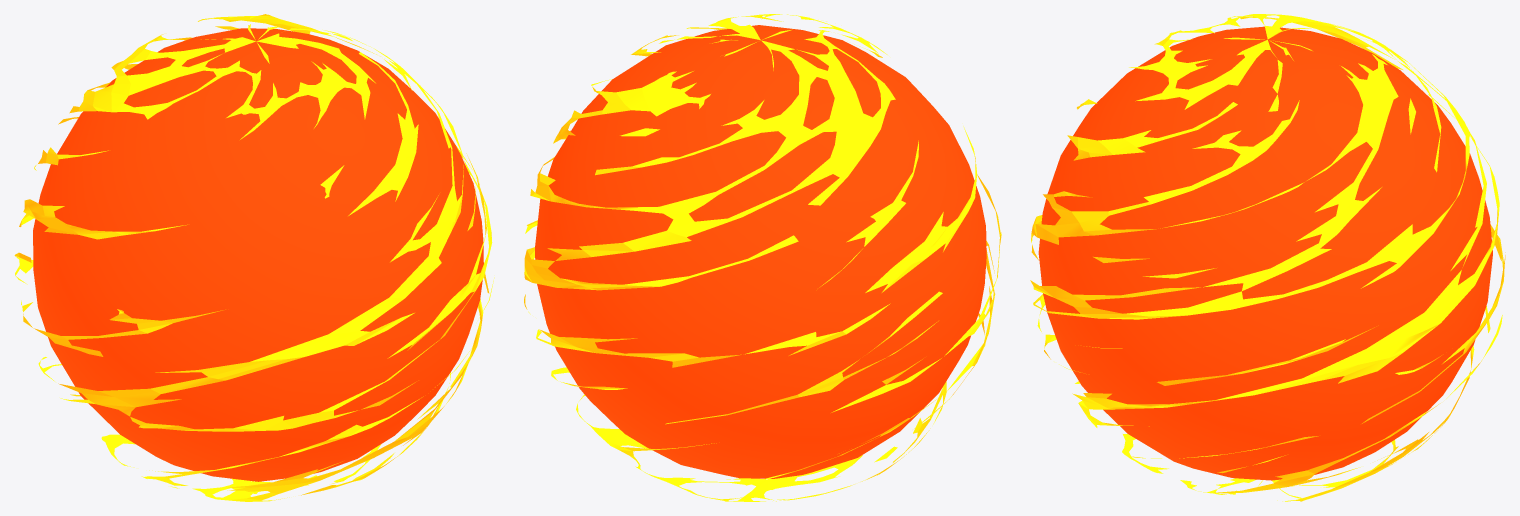
File: FireBall.glb
The picture shows the model from 3 angles, left to right: view 1: azimuth 30°, elevation 25°; view 2: azimuth 150°, elevation 25°; view 3: azimuth 270°, elevation 25°; orthographic projection.
Visible parts, largest first — view 1: Сфера.001, Сфера; view 2: Сфера.001, Сфера; view 3: Сфера.001, Сфера.
Part boxes in pixels (x1,y1,x2,y2): Сфера.001: [33, 28, 483, 481]; Сфера: [14, 14, 494, 501]; Сфера.001: [535, 25, 986, 478]; Сфера: [524, 14, 1001, 501]; Сфера.001: [1038, 26, 1492, 480]; Сфера: [1030, 14, 1505, 501].
Bounding box in the file's own units: 1.9 × 1.95 × 1.89.
